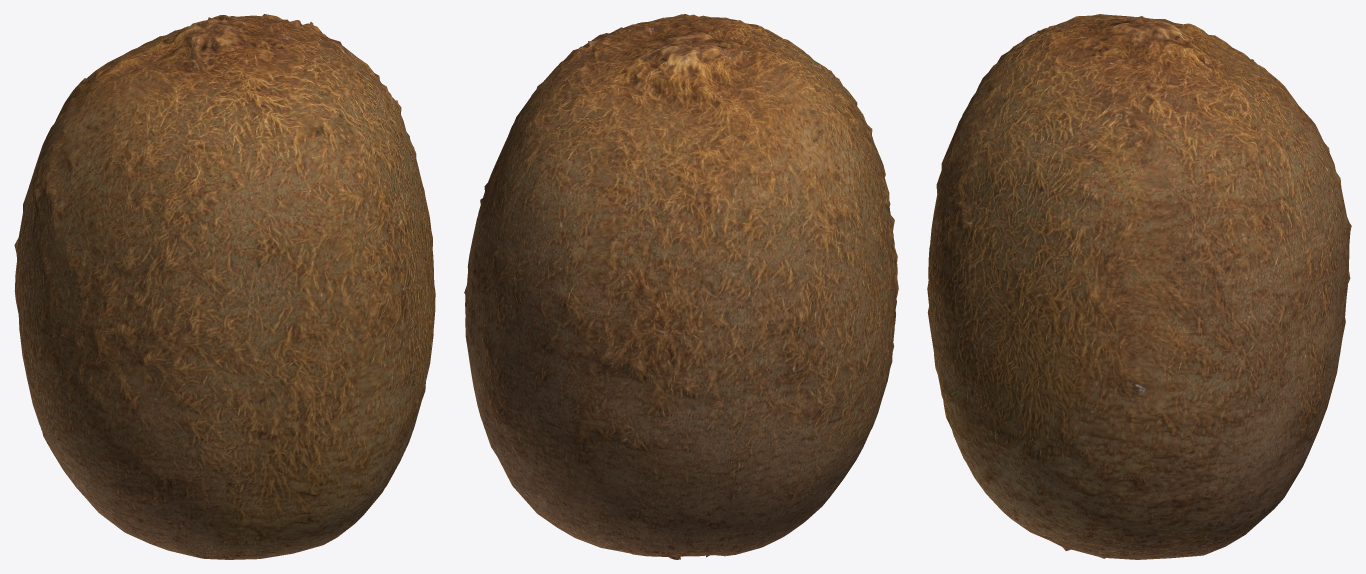
The model's file is kiwi.glb.
3 renders of one model, left to right at view 1: azimuth 30°, elevation 25°; view 2: azimuth 150°, elevation 25°; view 3: azimuth 270°, elevation 25°, orthographic.
Visible parts, largest first — view 1: food_kiwi_01; view 2: food_kiwi_01; view 3: food_kiwi_01.
Boxes of the visible parts, x1,y1,x2,y2 form: food_kiwi_01: [14, 14, 435, 559]; food_kiwi_01: [464, 14, 898, 559]; food_kiwi_01: [927, 14, 1351, 559].
Size of the model in its own units: 0.0695 by 0.0901 by 0.0686.
Materials: 1 (1 with a texture image).
